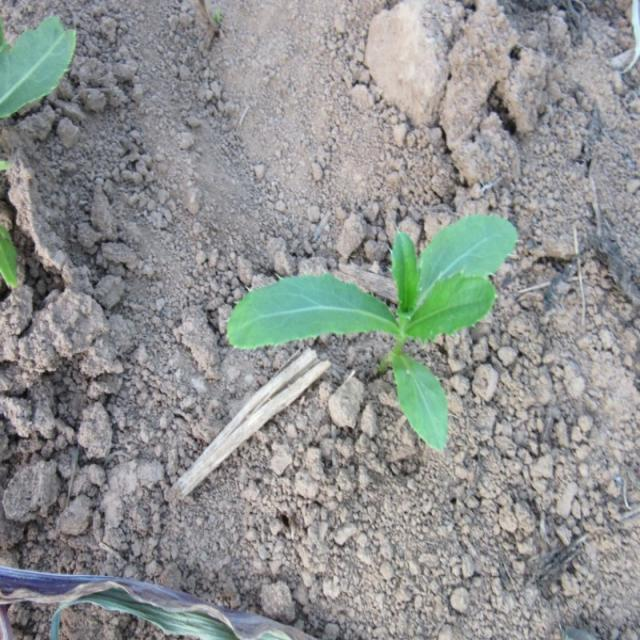cs: (223, 201, 526, 462)
